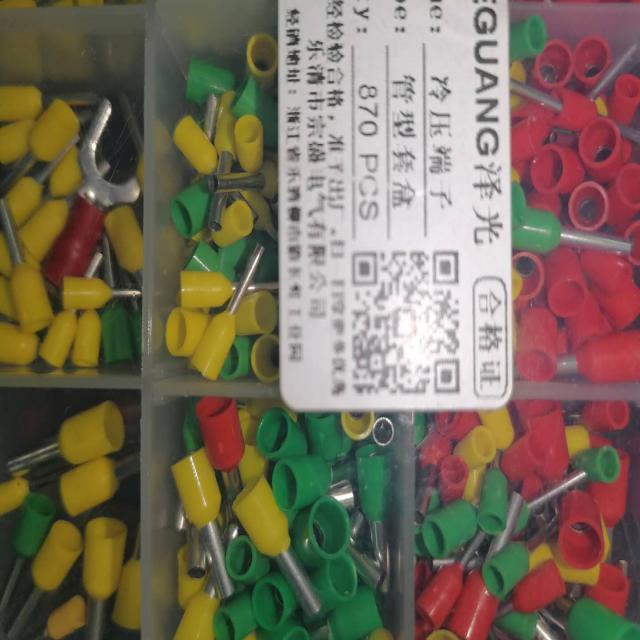qr_code: (349, 249, 461, 396)
